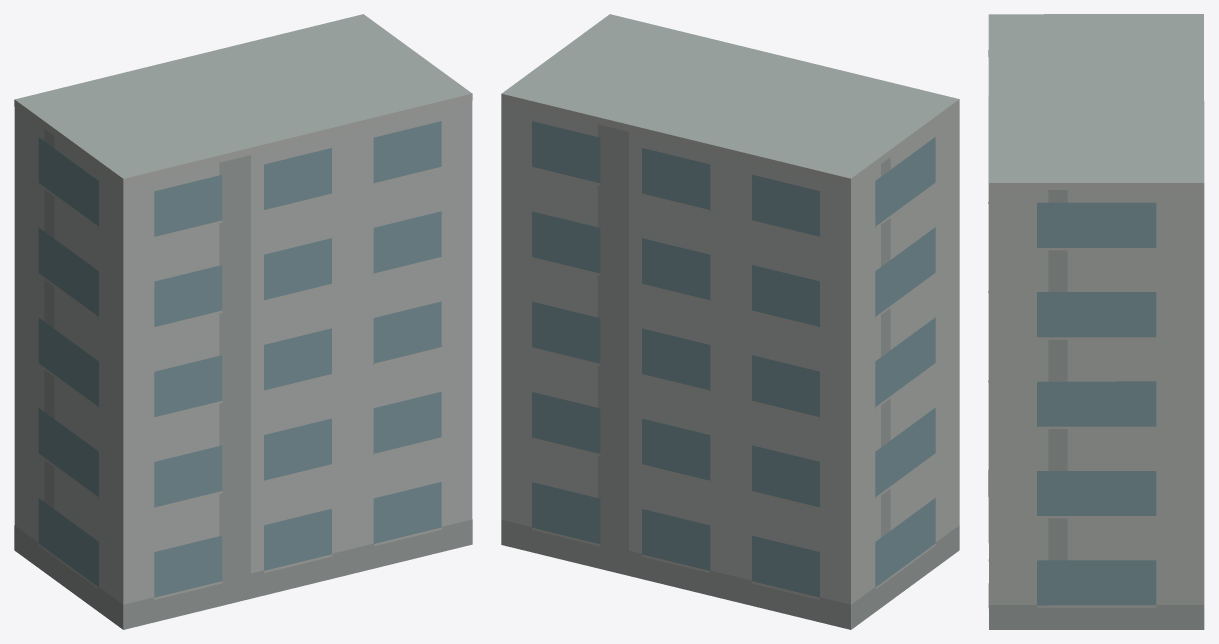
Rendered from survey-upis-32983490.glb.
3 views of the same model, side by side, from view 1: azimuth 30°, elevation 25°; view 2: azimuth 150°, elevation 25°; view 3: azimuth 270°, elevation 25° (orthographic).
Visible parts, largest first — view 1: survey-upis-32983490.tmp; view 2: survey-upis-32983490.tmp; view 3: survey-upis-32983490.tmp.
Part boxes in pixels (box(x1,y1,x2,y2)): survey-upis-32983490.tmp: box(14, 14, 472, 629); survey-upis-32983490.tmp: box(501, 14, 959, 629); survey-upis-32983490.tmp: box(988, 14, 1204, 629).
Bounding box in the file's own units: 12.35 × 15.2 × 6.68.
